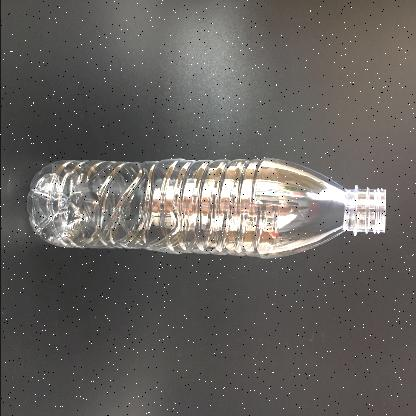Plastic Bottle: (26, 144, 392, 266)
